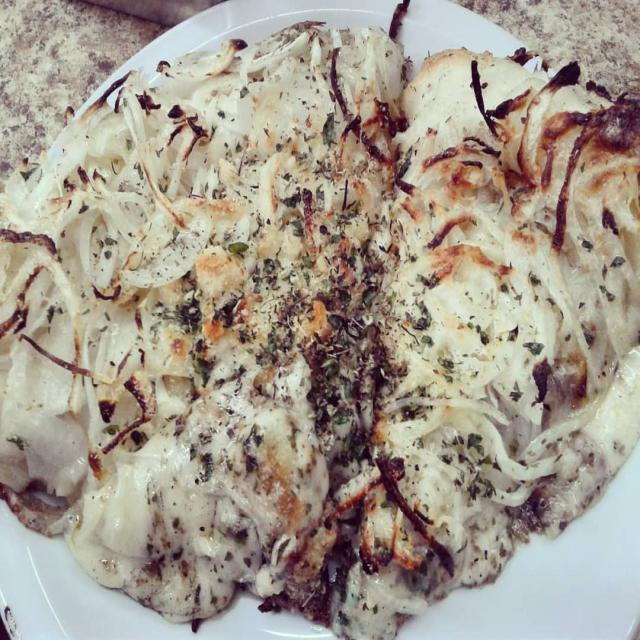pizza: (0, 5, 640, 637)
